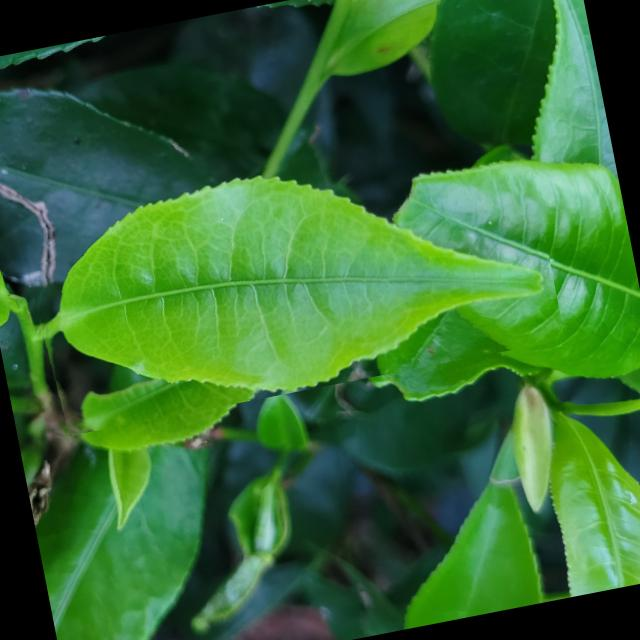Catagory A(1-2 days): (10, 109, 564, 439)
